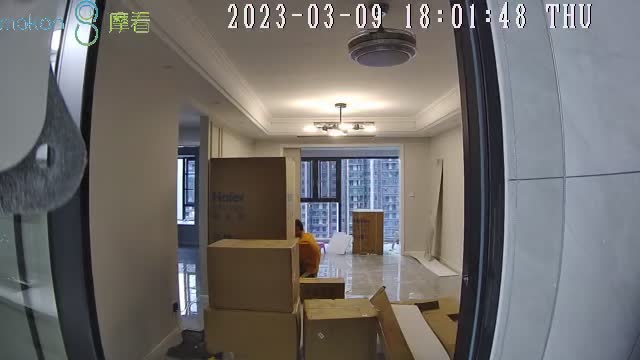people: (295, 220, 321, 277)
window: (300, 157, 401, 240), (177, 156, 195, 223)
